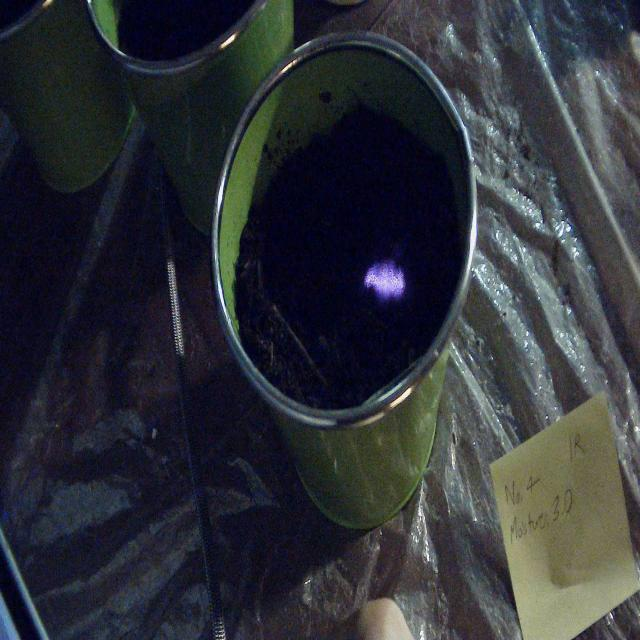soil-moisture-3.0: (364, 257, 406, 302)
